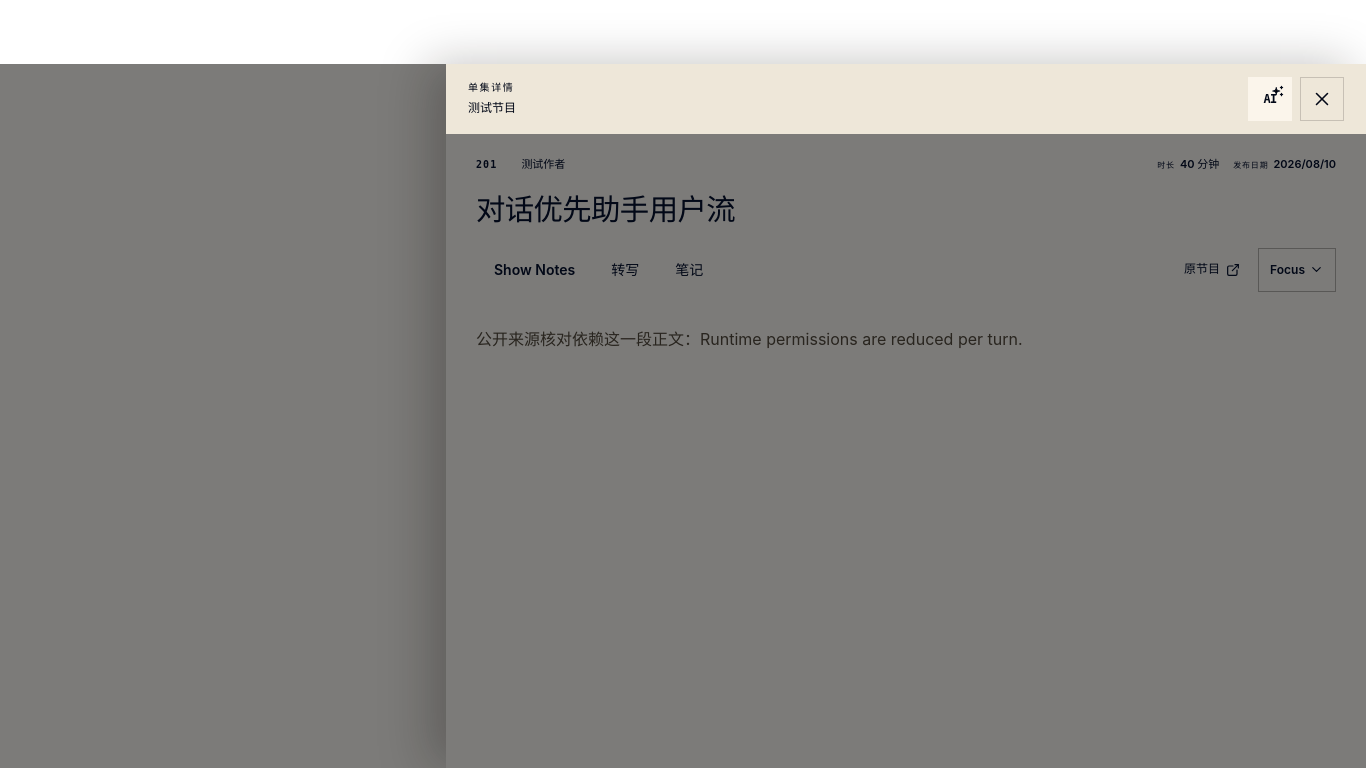
Test: EpisodeCopilotChat user flow (real Focus Detail seam) › submits a quick question exactly once as an ordinary question
Click the button with aria-label "单集助手". click: (1270, 99)
box: [1248,77,1292,121]
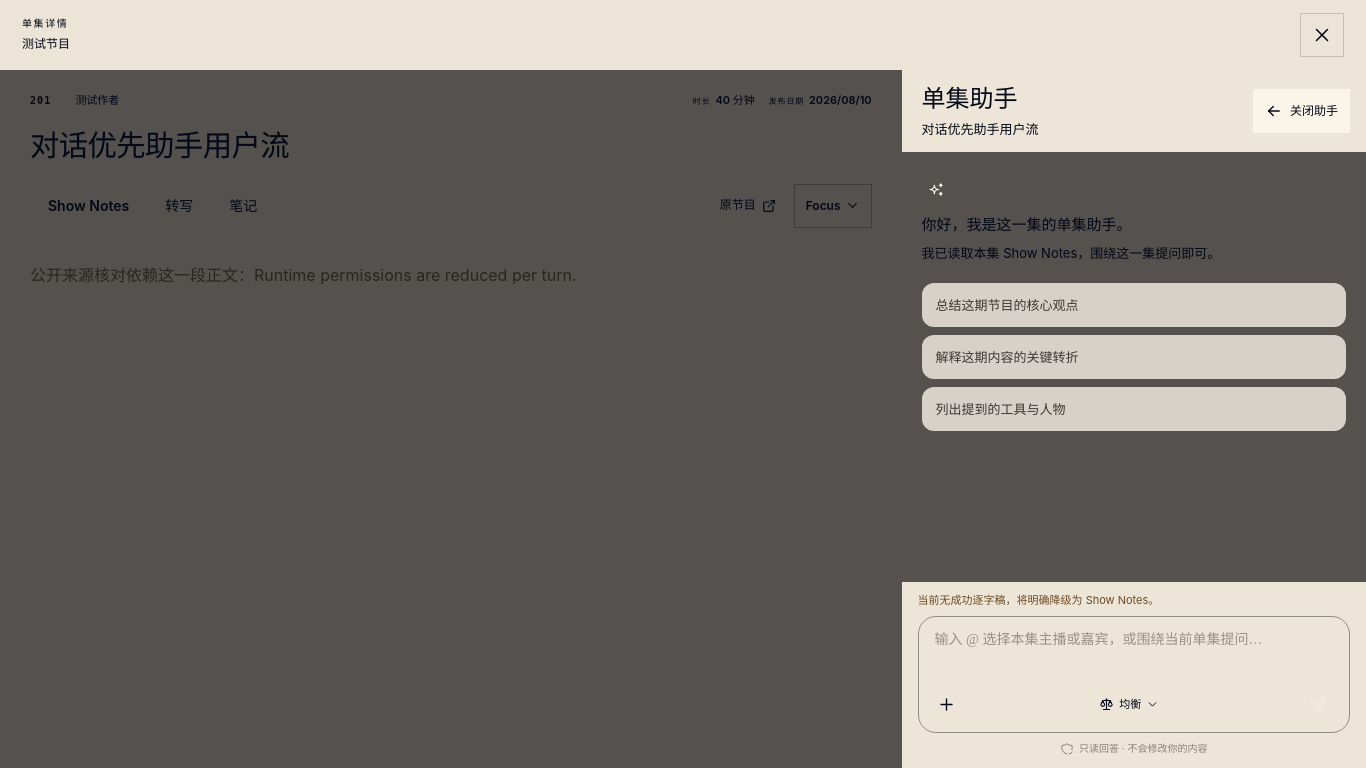
Now the text "你好，我是这一集的单集助手。" is shown, box [922,217,1132,233]
Click the button "解释这期内容的关键转折". click: (1007, 357)
box: [922,335,1346,379]
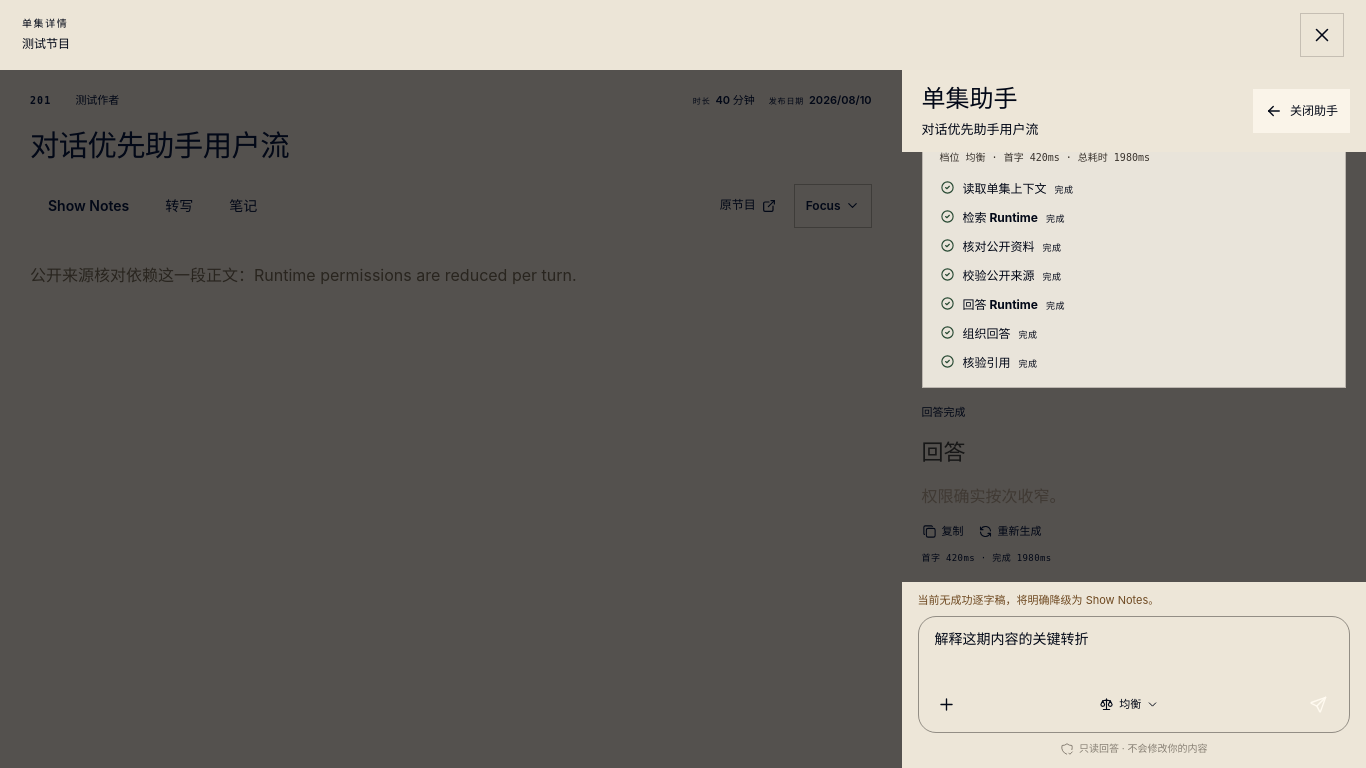
Now the text "权限确实按次收窄。" is shown, box [922,486,1066,506]
Now the element "快捷问题" is gone
